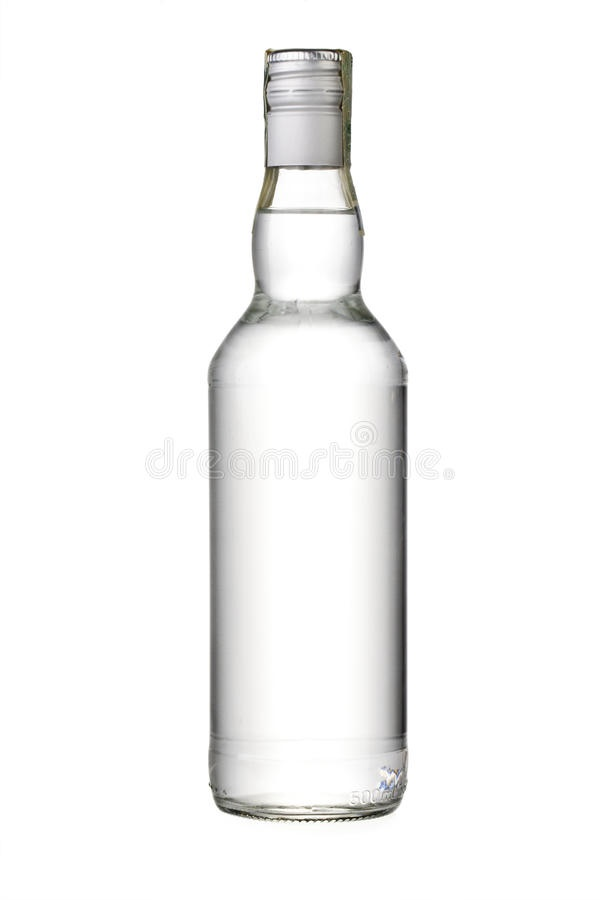emptybottle: (208, 46, 409, 817)
